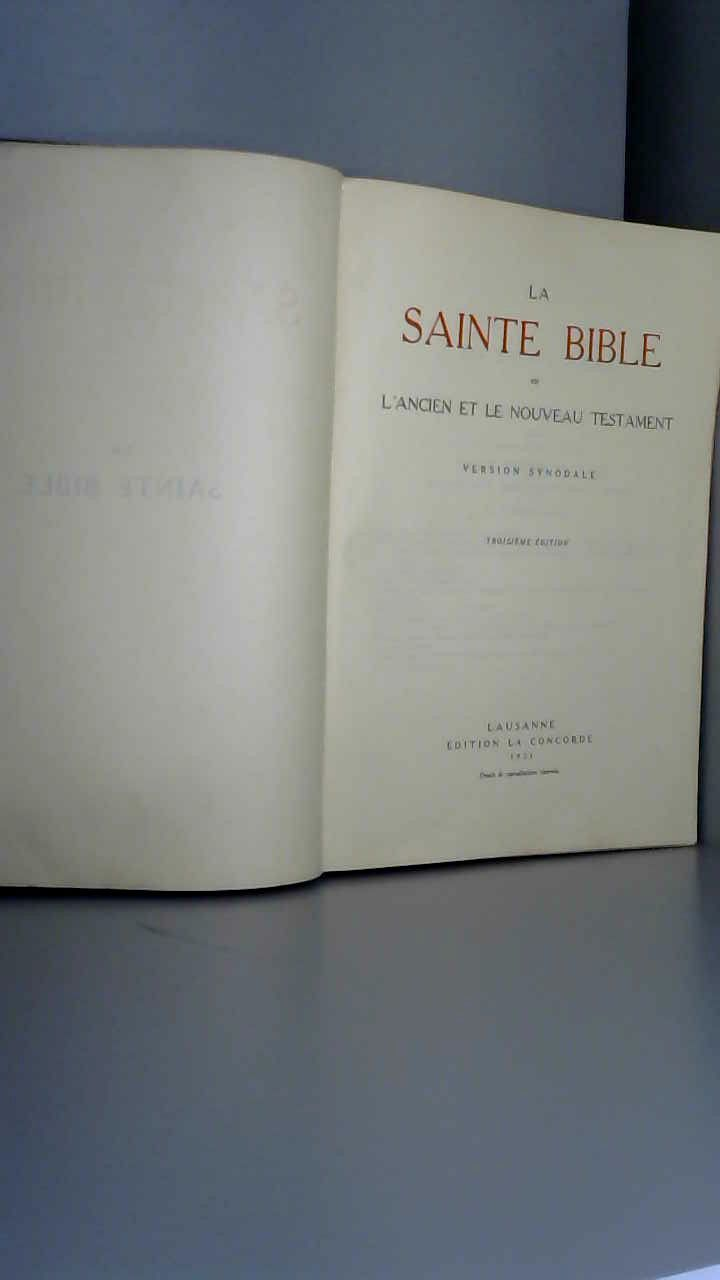book: (0, 113, 713, 932)
